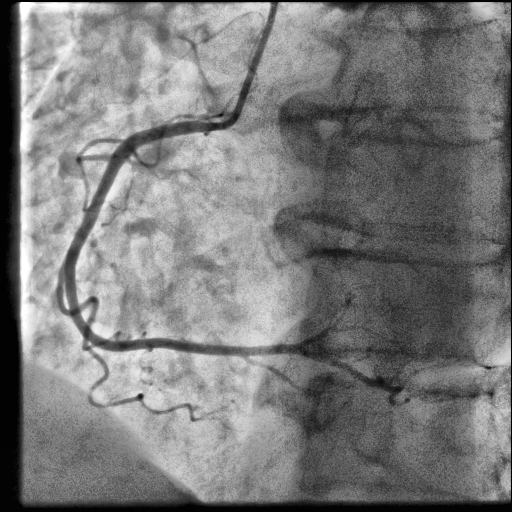pborca: (297, 328, 330, 347)
pda: (299, 348, 410, 405)
rca: (65, 121, 303, 356)
